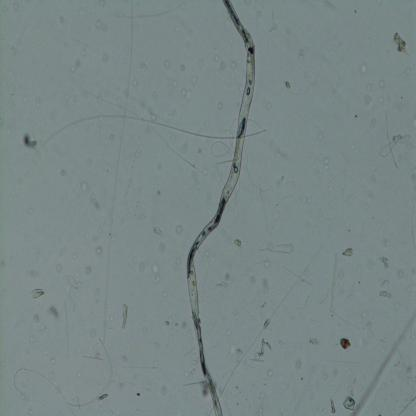Background material: (353, 308, 416, 415), (378, 108, 410, 168), (176, 76, 199, 107), (252, 338, 272, 363), (391, 30, 408, 58), (212, 267, 230, 289), (20, 131, 40, 150), (191, 379, 210, 399), (359, 79, 372, 106), (66, 55, 84, 74), (338, 336, 354, 356), (149, 259, 161, 285), (218, 56, 236, 73), (340, 395, 356, 413), (29, 287, 46, 302), (91, 191, 102, 214), (378, 253, 392, 271), (69, 275, 84, 291), (47, 304, 62, 320), (378, 287, 396, 300), (158, 378, 171, 396), (289, 360, 304, 374), (295, 45, 306, 61), (78, 178, 90, 192), (258, 278, 269, 293), (307, 335, 322, 346), (328, 396, 336, 415), (358, 62, 368, 77), (175, 221, 185, 236), (56, 263, 68, 275), (342, 247, 355, 258), (160, 55, 171, 68), (151, 226, 163, 237), (58, 12, 69, 23), (232, 236, 242, 248), (261, 316, 270, 329), (163, 315, 172, 327), (324, 158, 330, 174), (95, 245, 103, 255), (284, 78, 290, 91)
Cotton: (186, 1, 254, 415)
Glass filter fibre: (102, 0, 134, 346), (42, 110, 270, 148), (68, 338, 113, 407), (13, 368, 75, 416), (259, 240, 294, 255), (330, 252, 338, 309)
